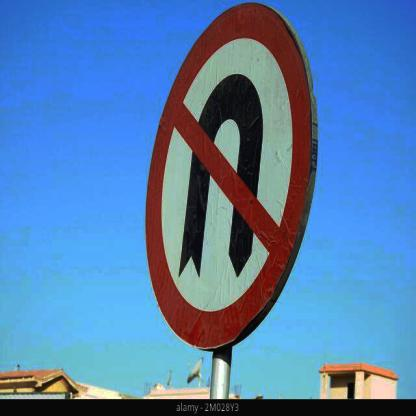No U-turn: (138, 3, 325, 354)
